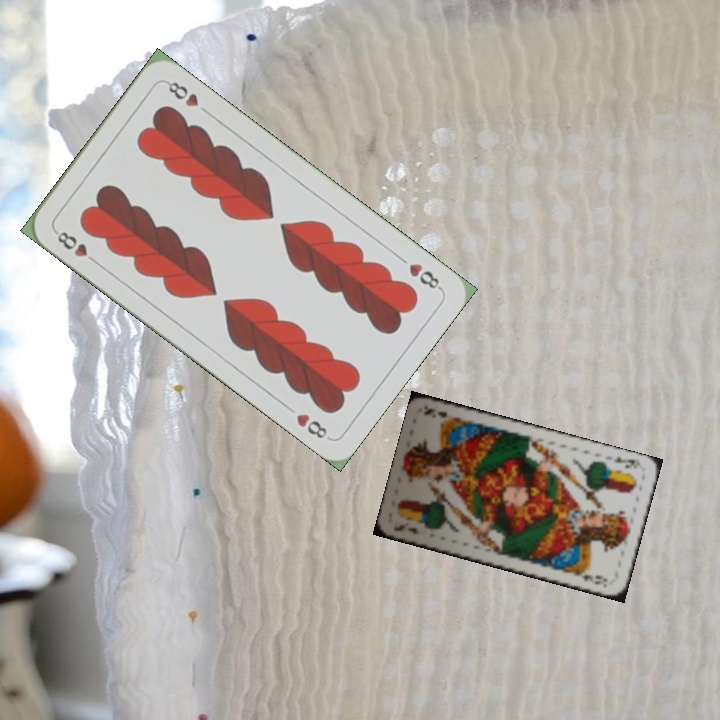EK: (609, 452, 643, 472), (389, 521, 422, 536)
H8: (51, 226, 101, 267), (404, 259, 445, 293)
